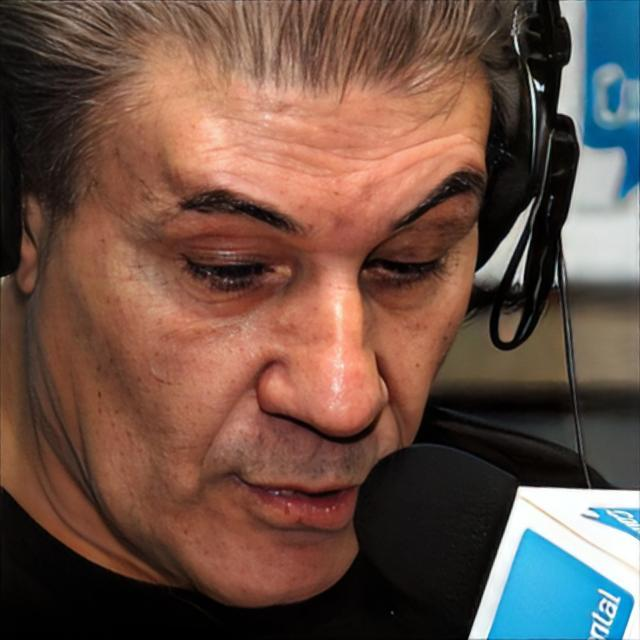sad: (61, 41, 480, 599)
